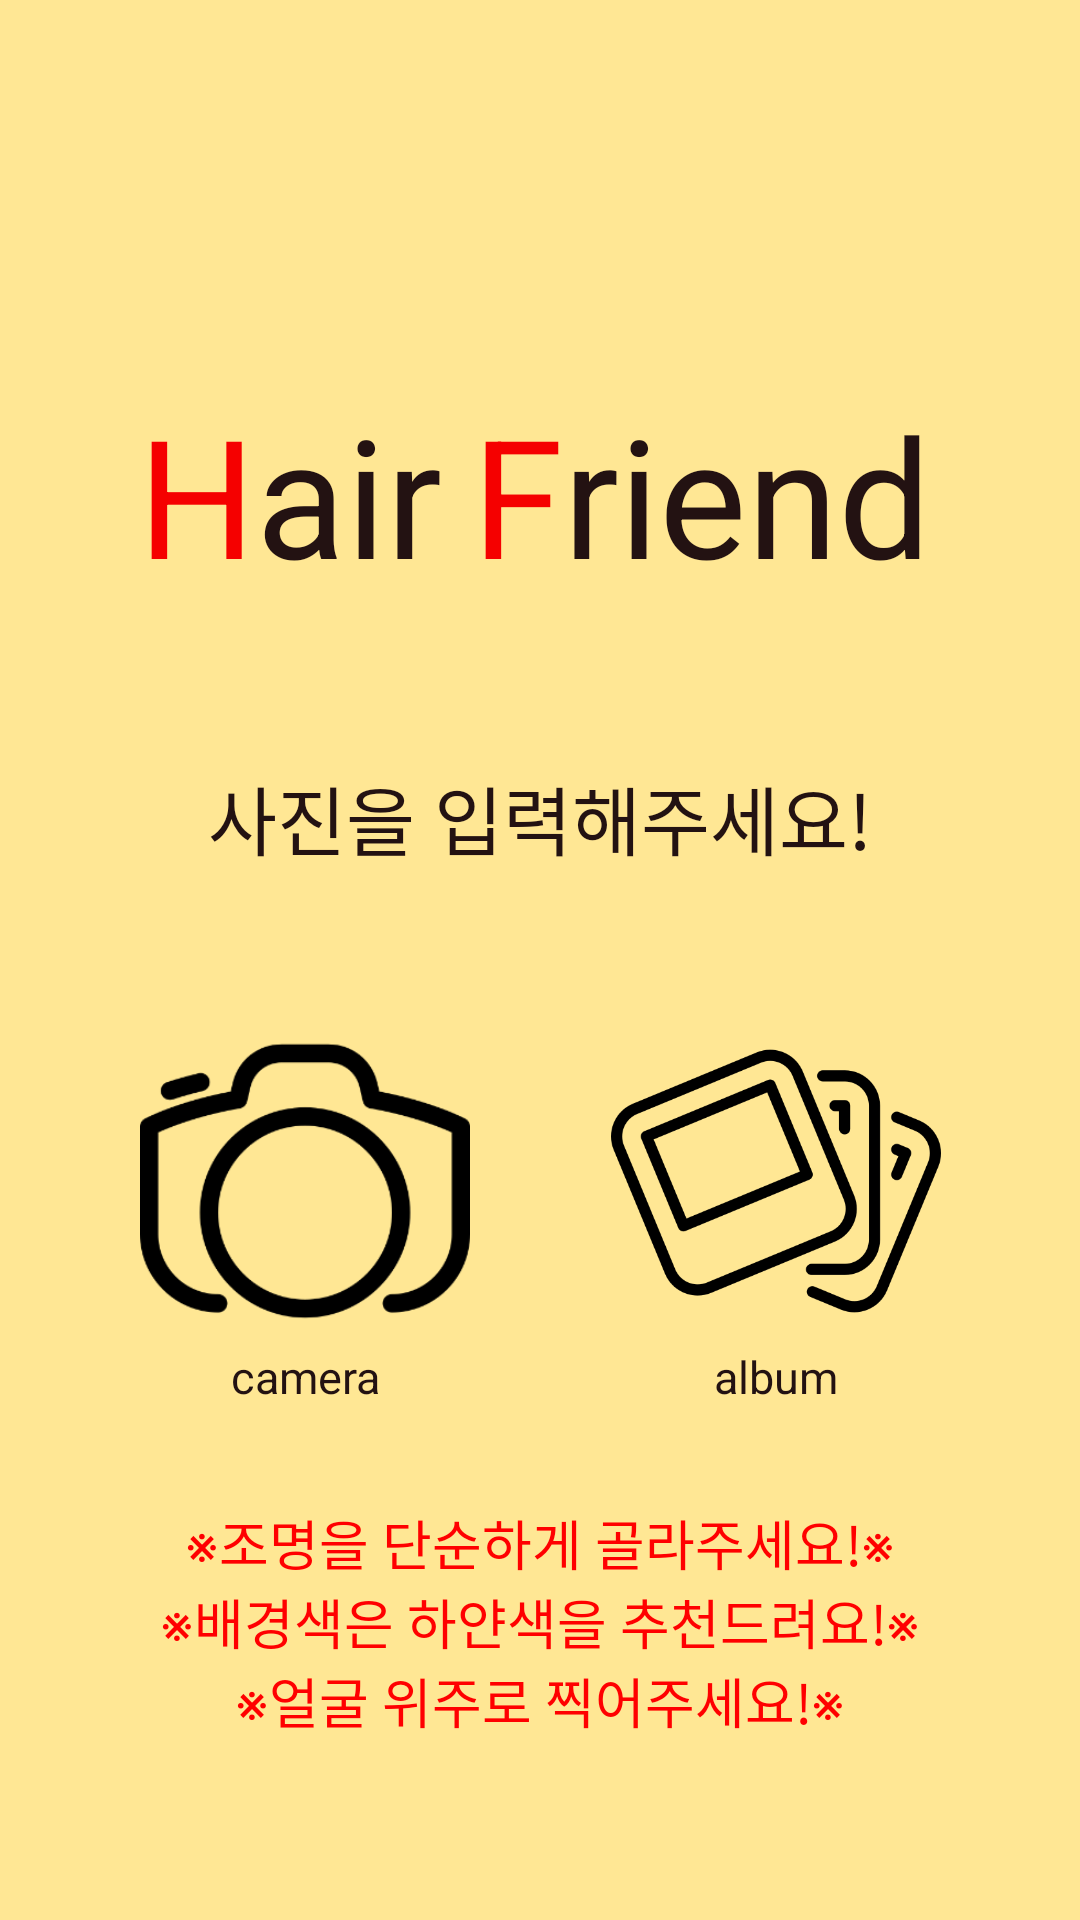

Locate icon controls on the screen. Image size 1080w x 1920h, boxes as Rect(x1, y1, x2, y2).
three slides: Rect(611, 1049, 941, 1313)
